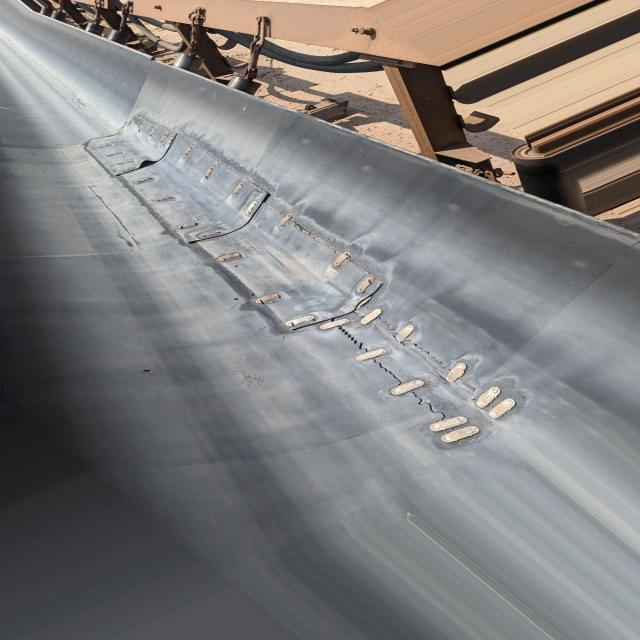patch work: (80, 118, 527, 455)
